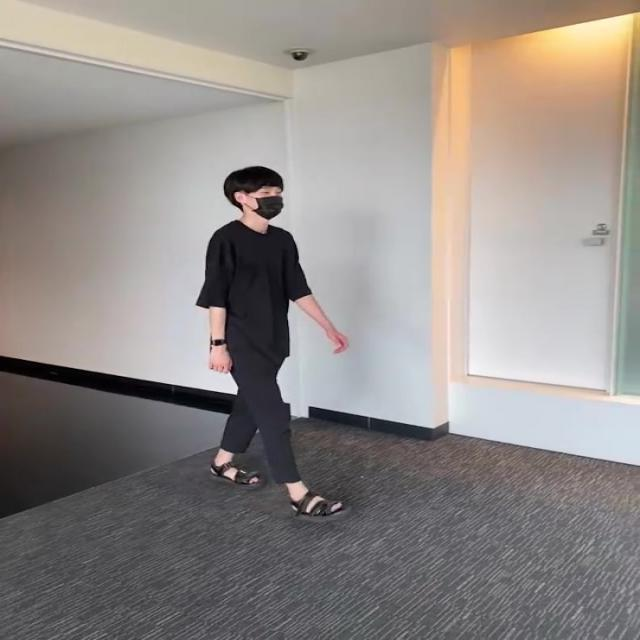direk: (194, 164, 358, 522)
